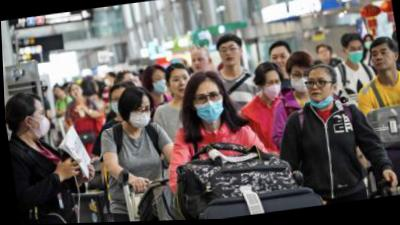NONE: (167, 73, 192, 100), (218, 43, 241, 69), (370, 48, 393, 73), (269, 51, 291, 75), (188, 53, 209, 75), (68, 86, 82, 101), (318, 49, 331, 64), (54, 86, 65, 99)
OK: (190, 89, 225, 128), (288, 68, 316, 97), (126, 104, 153, 131), (28, 107, 50, 139), (260, 79, 282, 103), (107, 93, 126, 119), (150, 73, 169, 96), (345, 46, 365, 67), (363, 40, 375, 54), (104, 74, 114, 87)
WRONG: (304, 76, 331, 107)
